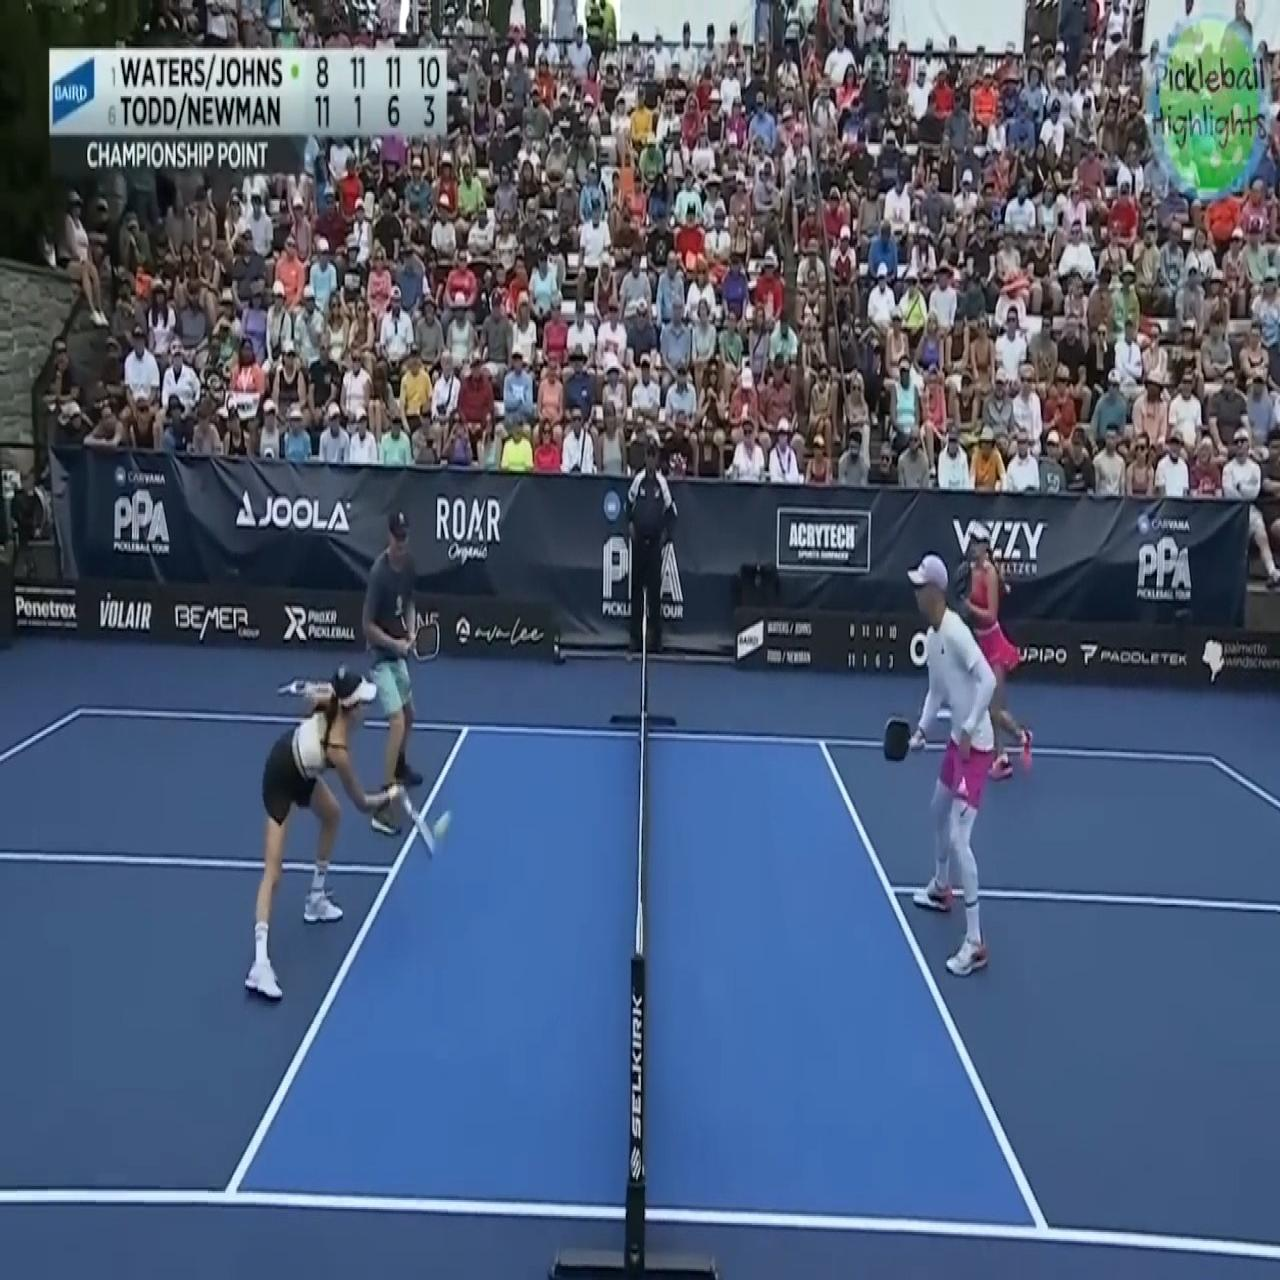Pickleball: (433, 806, 454, 847)
